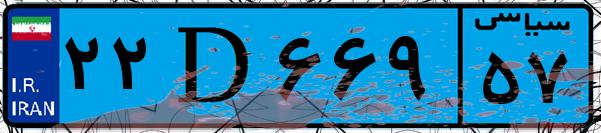2: (57, 26, 110, 100), (110, 28, 158, 98)
5: (475, 38, 525, 113)
6: (270, 28, 330, 110), (330, 28, 385, 110)
7: (525, 38, 570, 115)
9: (385, 28, 445, 110)
D: (158, 12, 270, 120)
